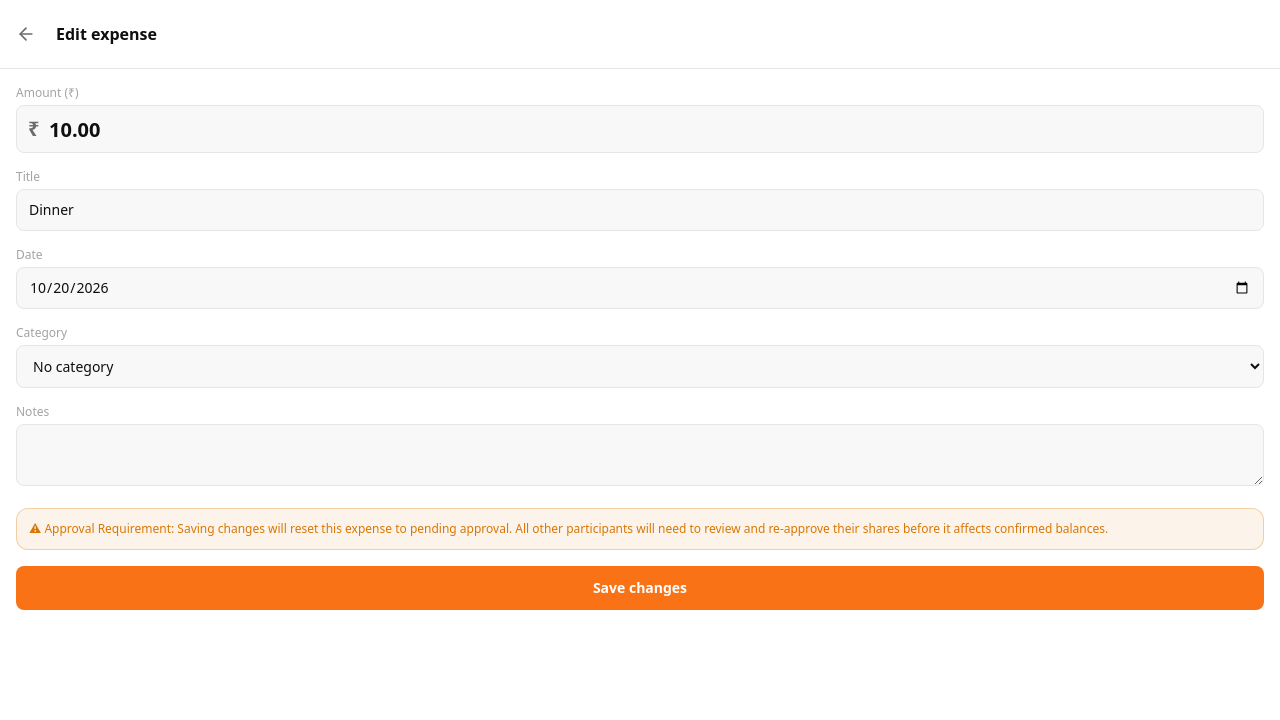
it: EditExpensePage atomic updates › keeps the editor open and reports stale-write conflicts without partial updates
Replace the text in the field showing "Dinner" with "Updated dinner" at (640, 210), box 16,189 -> 1264,231
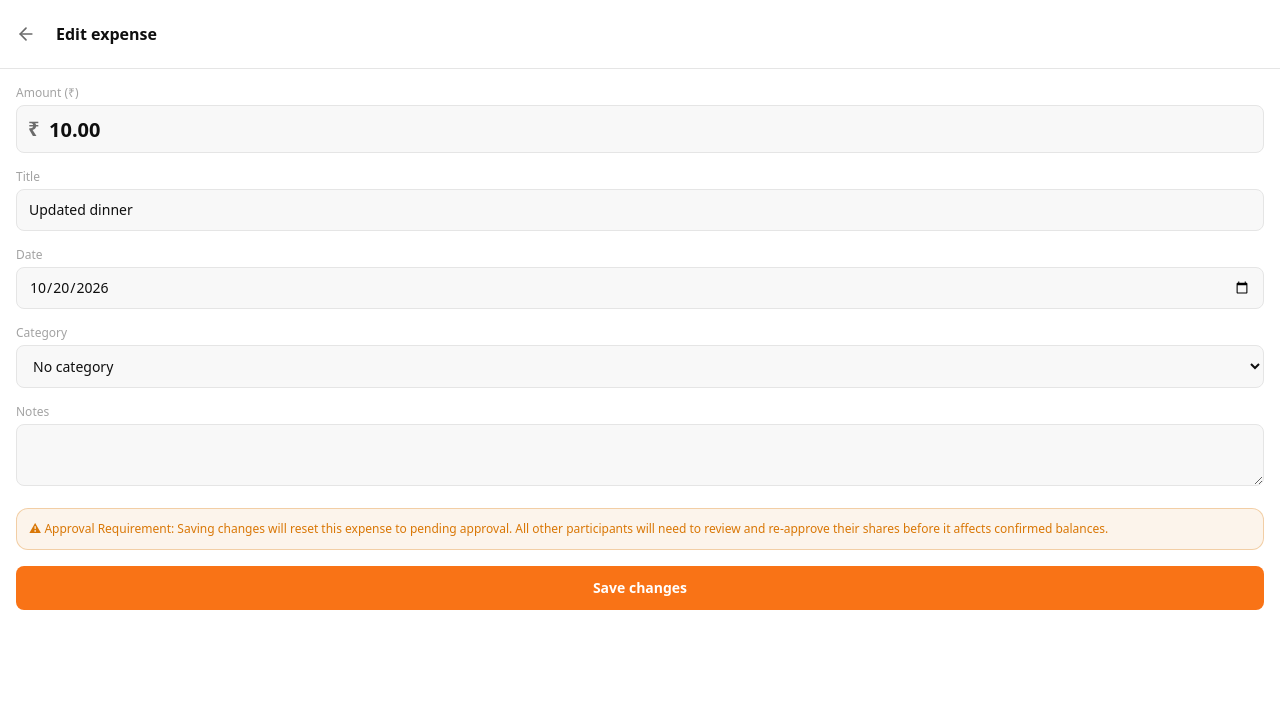
Click the button "Save changes" at (640, 588), box 16,566 -> 1264,610
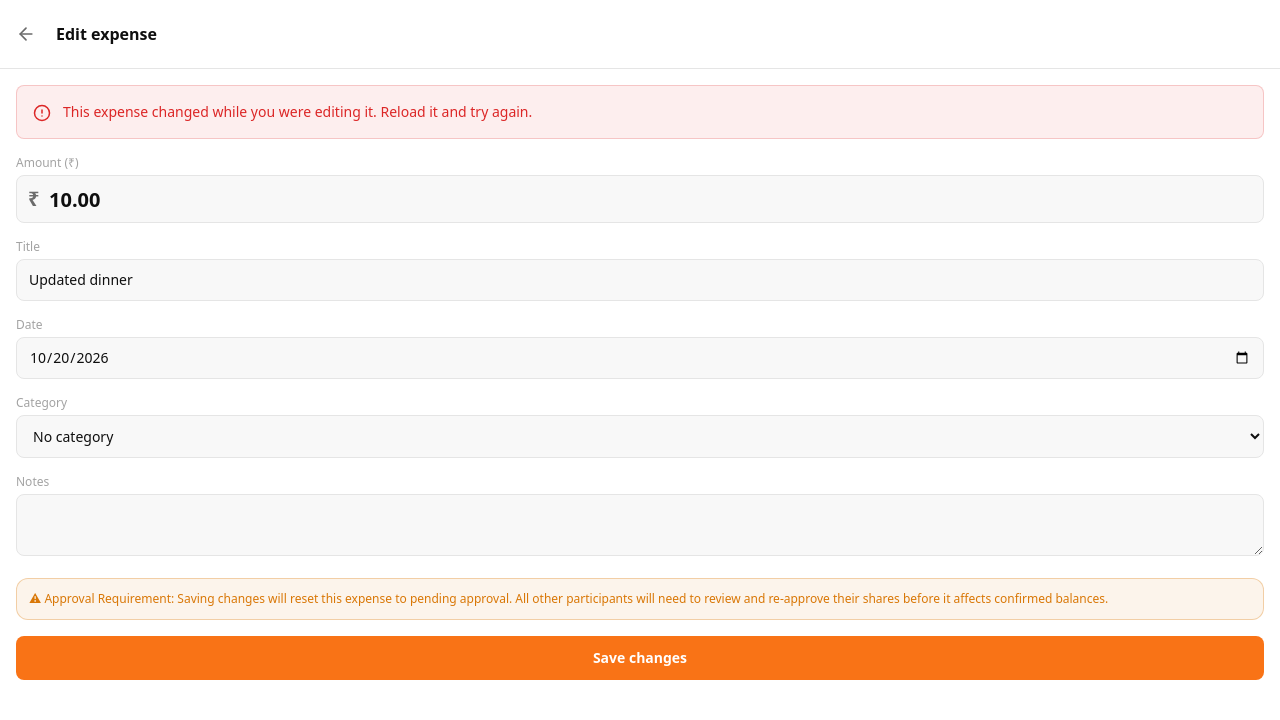
Check: the text "This expense changed while you were editing it" is shown, box 63,102 -> 532,121
